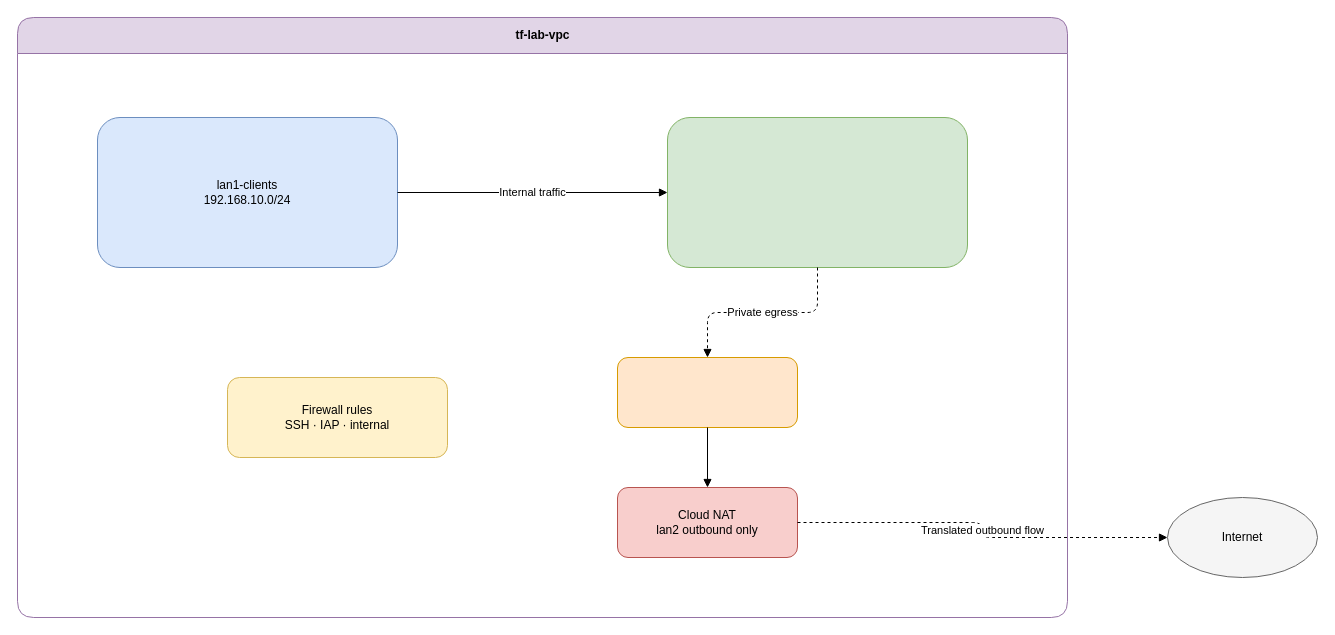
Some shapes in this 1335 by 635 pixel diagram are drawn without their labels. The centre of each missing label's shape, as x and y in pixels:
Cloud Router: (x=707, y=392)
lan2-servers 192.168.20.0/24: (x=817, y=192)
